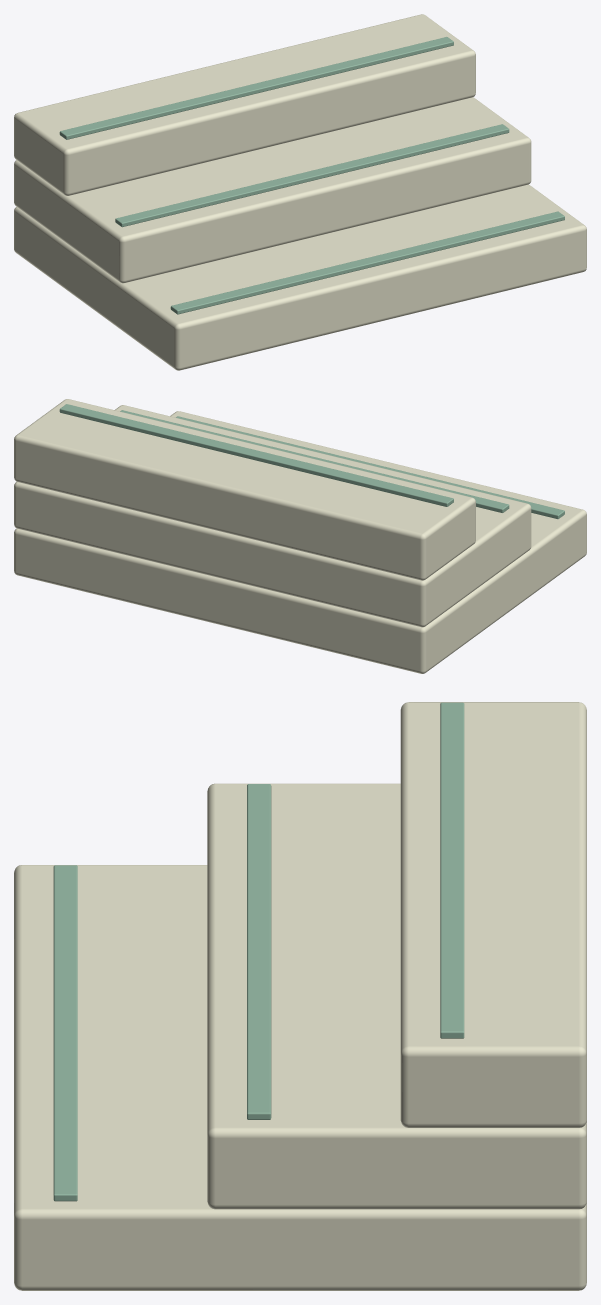
File: enchanted-harp-garden-and-music-sanctuary-dais-entry-s-573117ed__30397.glb
The picture shows the model from 3 angles, top to bottom: view 1: azimuth 30°, elevation 25°; view 2: azimuth 150°, elevation 25°; view 3: azimuth 270°, elevation 25°; orthographic projection. The views are drawn at different scales.
Visible parts, largest first — view 1: dais-entry-step; view 2: dais-entry-step; view 3: dais-entry-step.
Boxes of the visible parts, x1,y1,x2,y2 form: dais-entry-step: (14,14,586,370); dais-entry-step: (14,399,586,673); dais-entry-step: (14,702,586,1290).
Bounding box in the file's own units: 1.2 × 0.402 × 0.8299.
